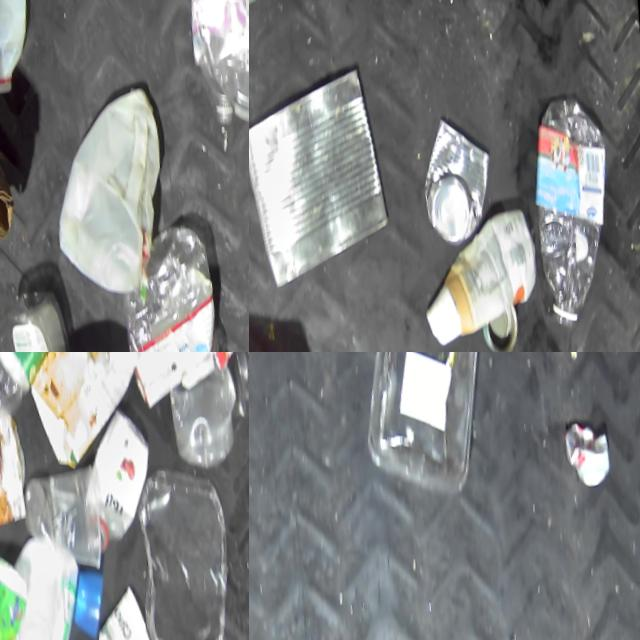can: (412, 112, 507, 241)
milk_jug: (45, 86, 191, 301), (0, 541, 108, 640), (0, 0, 61, 110)
non_white_jug: (0, 411, 37, 541)
plastic_bottle: (522, 85, 636, 335), (126, 217, 246, 352), (0, 352, 87, 438), (249, 53, 275, 275)
